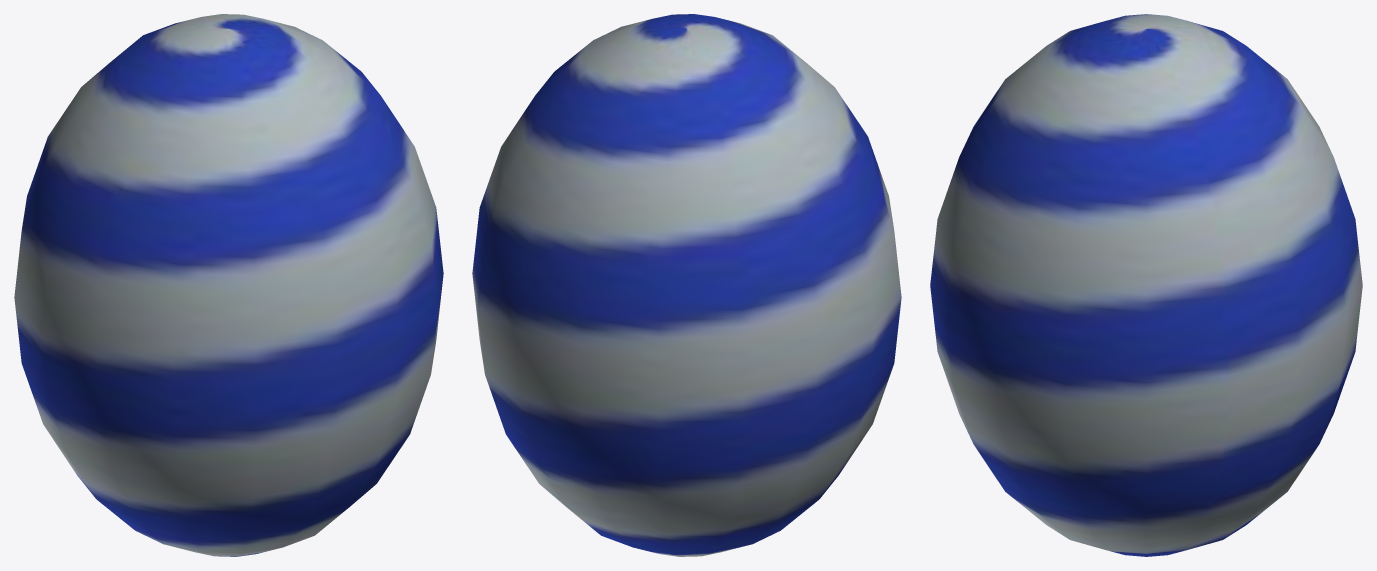
Rendered from egg_08.fbx.
3 views of the same model, side by side, from view 1: azimuth 30°, elevation 25°; view 2: azimuth 150°, elevation 25°; view 3: azimuth 270°, elevation 25° (orthographic).
Visible parts, largest first — view 1: egg_08; view 2: egg_08; view 3: egg_08.
Boxes of the visible parts, x1,y1,x2,y2 form: egg_08: [14, 14, 443, 556]; egg_08: [472, 14, 901, 556]; egg_08: [930, 14, 1362, 556].
Bounding box in the file's own units: 9.95 × 13.02 × 9.95.
